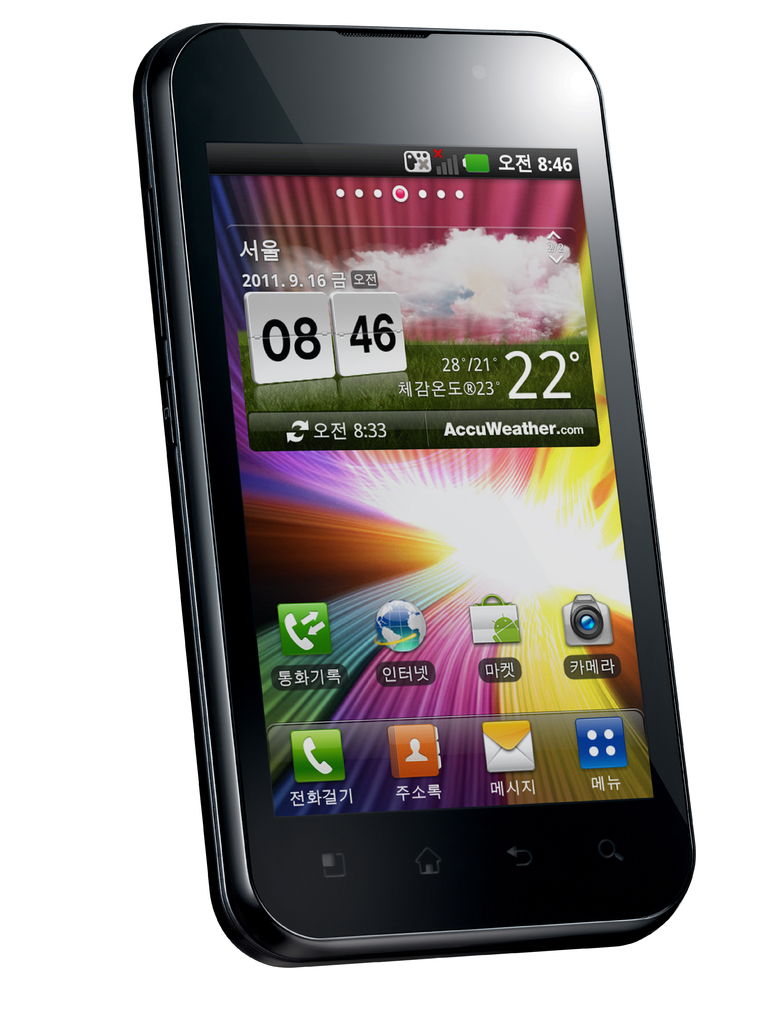mobile phone: (119, 0, 727, 958)
